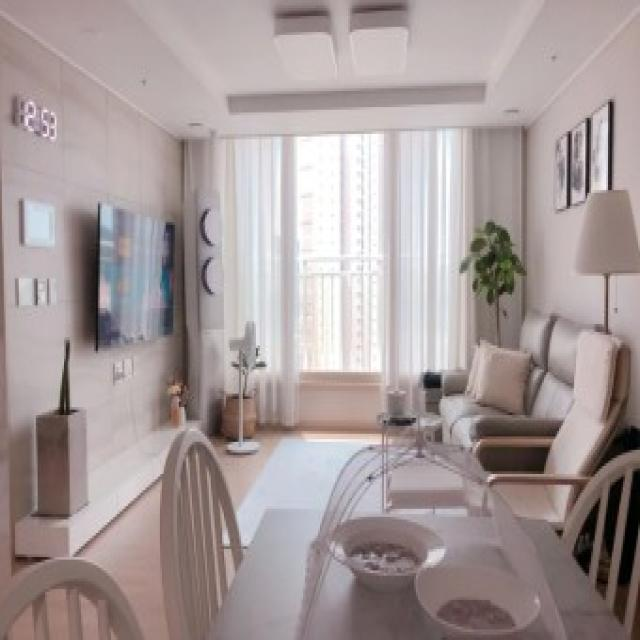Chair: (486, 338, 623, 523)
Sofa: (434, 302, 606, 452)
tv: (100, 199, 177, 347)
window: (218, 141, 488, 353)
